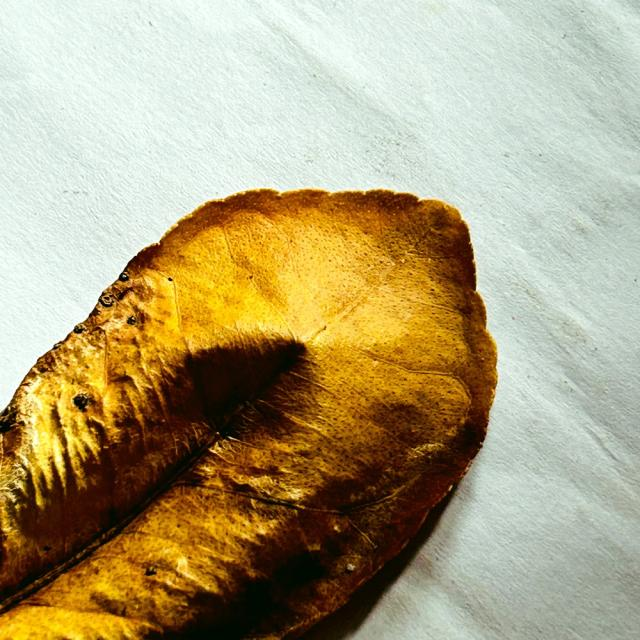DryLeaf_Lemon: (0, 189, 497, 639)
